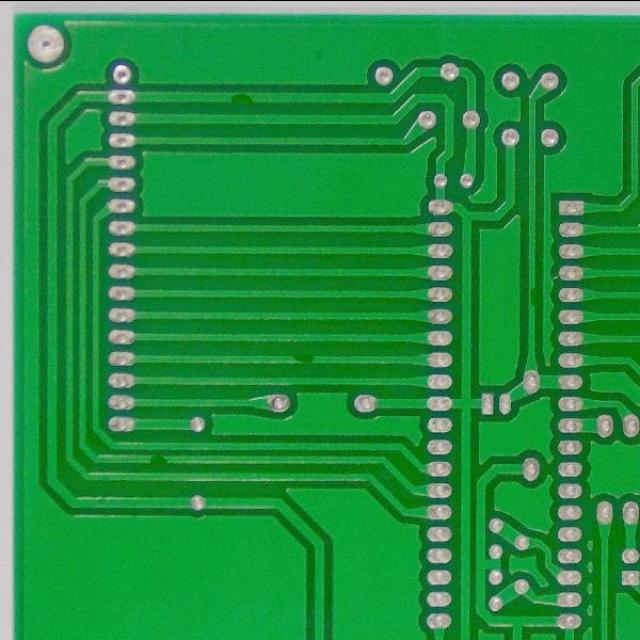MouseBite: (223, 88, 260, 106), (285, 351, 323, 367), (526, 282, 539, 312)
Open_Circuit: (142, 450, 175, 467)
